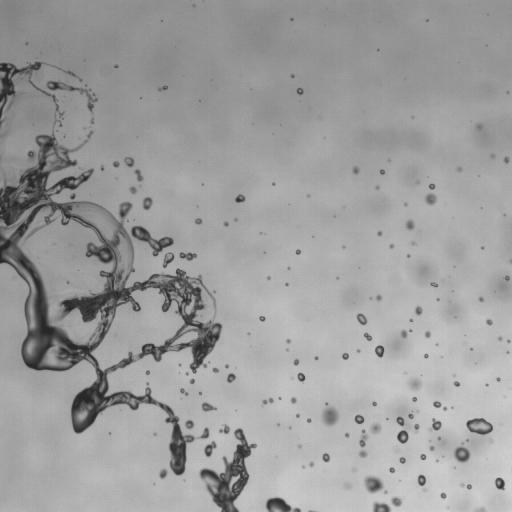droplet: (0, 60, 63, 138), (199, 428, 256, 511), (396, 416, 419, 443), (466, 418, 492, 435), (321, 403, 338, 426), (364, 475, 383, 493), (454, 444, 470, 462), (204, 441, 216, 457), (372, 501, 391, 511), (162, 252, 174, 267), (408, 377, 421, 390), (417, 474, 426, 491), (429, 418, 441, 430), (201, 402, 216, 411), (425, 193, 436, 205), (356, 313, 367, 325), (370, 422, 381, 434), (494, 477, 504, 490), (142, 197, 152, 209), (374, 345, 384, 357), (391, 496, 402, 506), (124, 157, 134, 167), (218, 424, 229, 433), (405, 219, 414, 229), (354, 414, 363, 423), (235, 194, 245, 202), (297, 372, 305, 382), (159, 468, 167, 478), (414, 306, 422, 315), (401, 330, 410, 338), (227, 373, 235, 382), (185, 420, 193, 429), (322, 453, 330, 462), (358, 450, 367, 457), (352, 166, 359, 174), (364, 333, 372, 340), (129, 186, 136, 193), (433, 401, 441, 407), (343, 483, 351, 489), (195, 218, 202, 224), (293, 358, 299, 365), (180, 388, 187, 394), (420, 453, 426, 460), (440, 492, 446, 499), (297, 88, 303, 94), (113, 161, 119, 167), (429, 183, 435, 189), (486, 319, 492, 325), (342, 353, 348, 359), (212, 367, 218, 373), (290, 397, 296, 403), (399, 457, 405, 463), (504, 156, 509, 163), (453, 381, 460, 386), (476, 123, 481, 129), (431, 282, 437, 287), (376, 294, 381, 300), (259, 316, 265, 321), (425, 331, 430, 337), (389, 467, 394, 473), (504, 275, 509, 280), (408, 413, 413, 418), (90, 118, 94, 124), (380, 169, 384, 174), (224, 221, 228, 226), (377, 231, 382, 235), (296, 249, 300, 254), (429, 446, 434, 450), (77, 77, 81, 81), (457, 167, 461, 171), (411, 241, 415, 245), (389, 244, 393, 248), (479, 297, 483, 301), (498, 336, 502, 340), (286, 339, 290, 343), (496, 377, 500, 381), (190, 379, 194, 383), (412, 397, 416, 401), (372, 401, 376, 405), (345, 433, 349, 437), (309, 462, 313, 466), (31, 122, 35, 125), (100, 165, 103, 169), (376, 185, 379, 189), (146, 370, 149, 374), (442, 407, 446, 410), (307, 418, 310, 422), (291, 74, 294, 77), (491, 154, 494, 157), (424, 354, 427, 357), (296, 414, 299, 417), (353, 468, 356, 471), (115, 64, 117, 67), (404, 203, 407, 205), (481, 246, 483, 249), (407, 254, 409, 257), (267, 276, 269, 279), (66, 281, 69, 283), (285, 283, 288, 285), (55, 295, 57, 298), (507, 340, 510, 342), (286, 348, 288, 351), (357, 349, 359, 352), (315, 356, 317, 359), (225, 365, 228, 367), (437, 437, 440, 439), (13, 111, 15, 113), (299, 444, 301, 446)
ligament: (0, 132, 222, 475), (46, 81, 97, 112), (265, 496, 301, 511), (358, 429, 368, 447), (179, 252, 196, 260), (134, 169, 143, 181), (262, 398, 273, 405), (461, 483, 471, 489), (66, 71, 76, 76), (474, 507, 486, 511), (158, 86, 167, 90), (0, 155, 1, 162), (309, 510, 316, 511), (510, 259, 511, 263)
